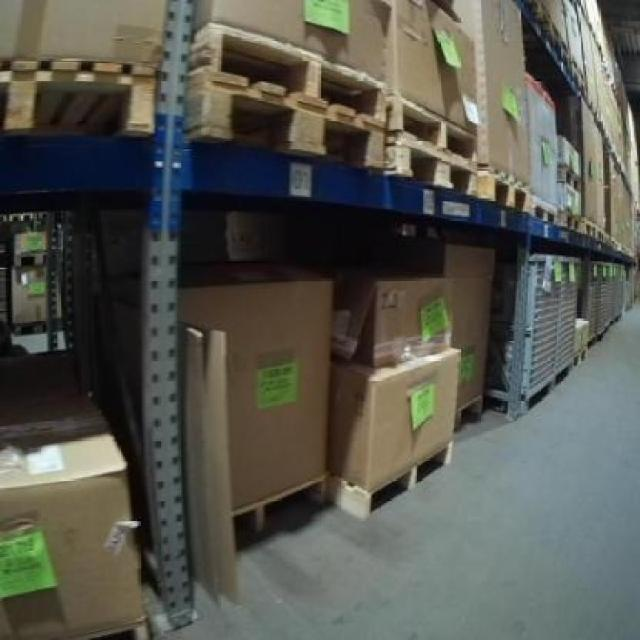pallets: (0, 432, 143, 637), (326, 346, 457, 515)
